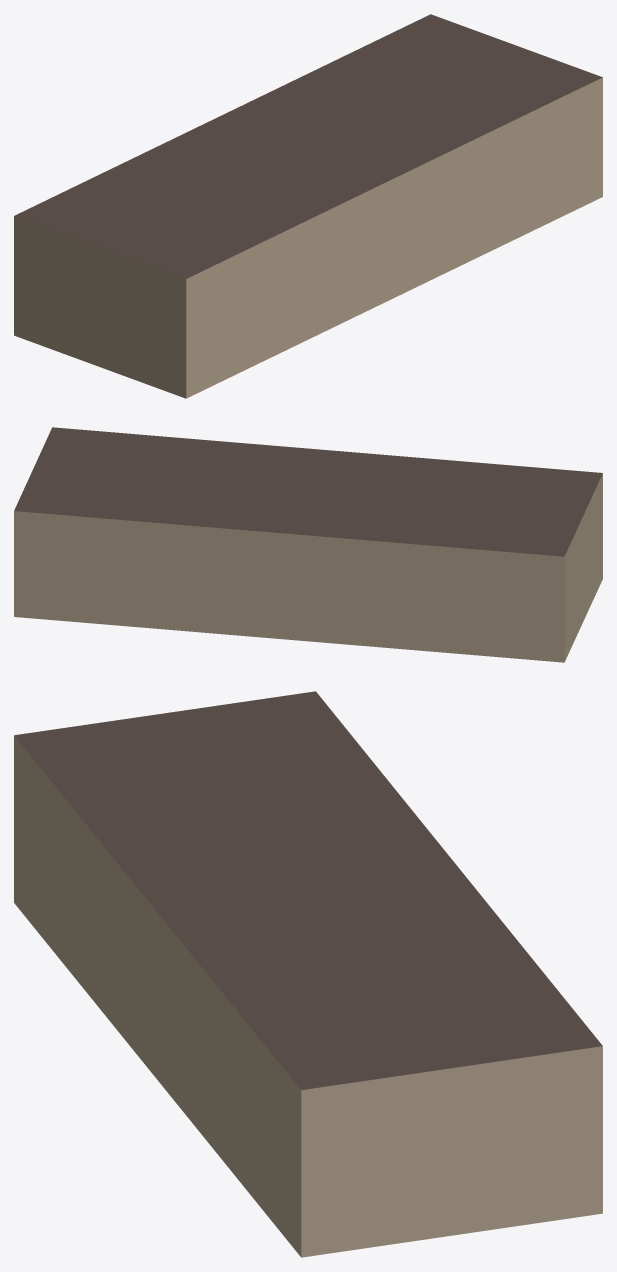
3 renders of one model, top to bottom at view 1: azimuth 30°, elevation 25°; view 2: azimuth 150°, elevation 25°; view 3: azimuth 270°, elevation 25°, orthographic. The views are drawn at different scales.
Visible parts, largest first — view 1: HP-w859457488; view 2: HP-w859457488; view 3: HP-w859457488.
Part boxes in pixels (box(x1,y1,x2,y2)): HP-w859457488: box(14, 14, 602, 398); HP-w859457488: box(14, 427, 602, 662); HP-w859457488: box(14, 691, 602, 1257).
Size of the model in its own units: 45.97 by 9 by 28.68.
